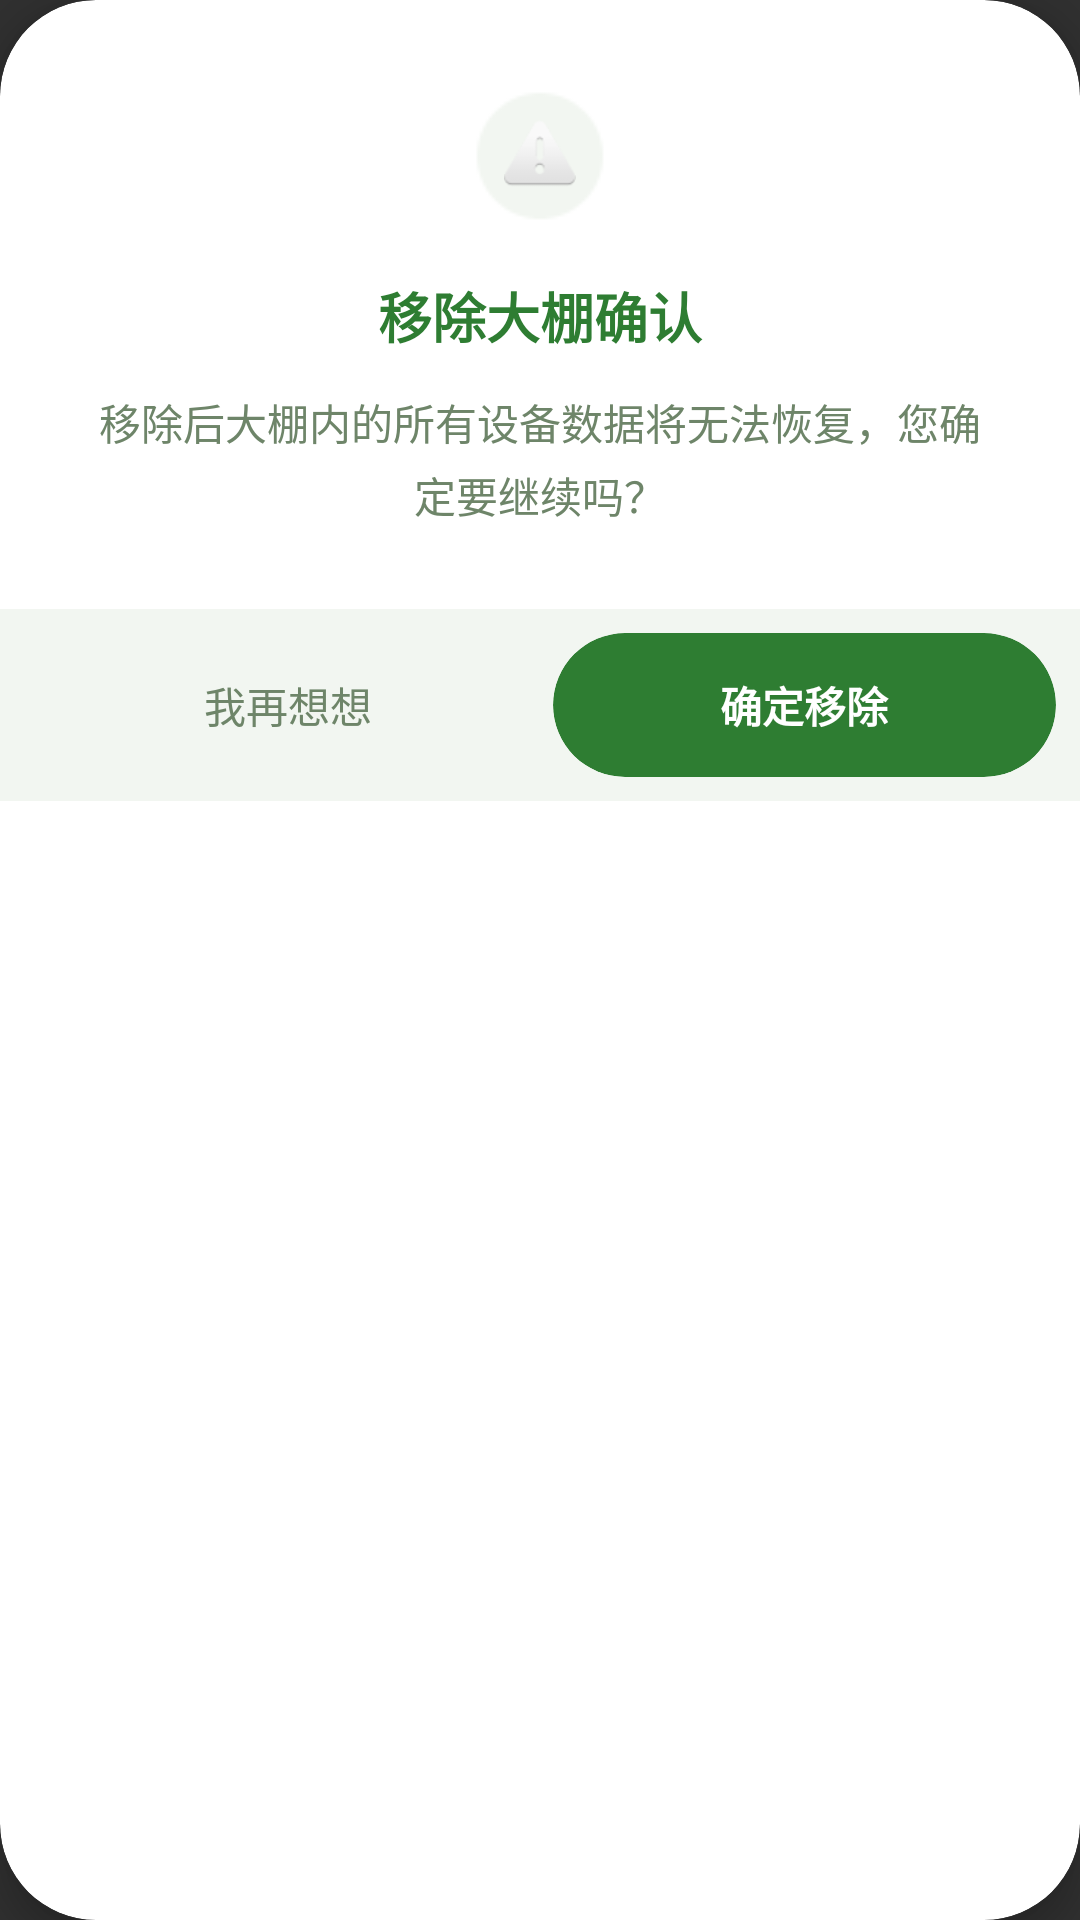

Locate icon controls on the screen. Image size 1080 × 1920, boxes as (x1, y1, x2, y2).
alert: (477, 93, 603, 219)
